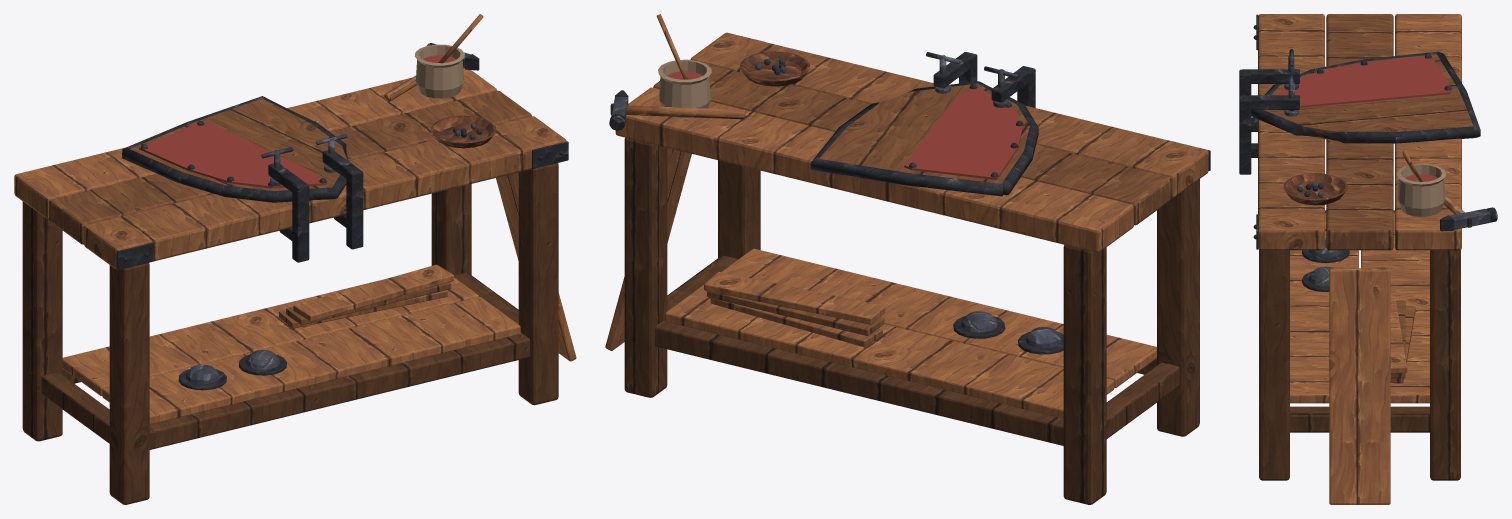
File: hs_repair_bench.glb
The picture shows the model from 3 angles, left to right: view 1: azimuth 30°, elevation 25°; view 2: azimuth 150°, elevation 25°; view 3: azimuth 270°, elevation 25°; orthographic projection. The views are drawn at different scales.
Visible parts, largest first — view 1: model; view 2: model; view 3: model.
Boxes of the visible parts, x1=… form: model: x1=14, y1=14, x2=576, y2=504; model: x1=605, y1=14, x2=1210, y2=504; model: x1=1239, y1=14, x2=1497, y2=504.
Bounding box in the file's own units: 1.65 × 1.06 × 0.7546.
Materials: 9 (7 with a texture image).
